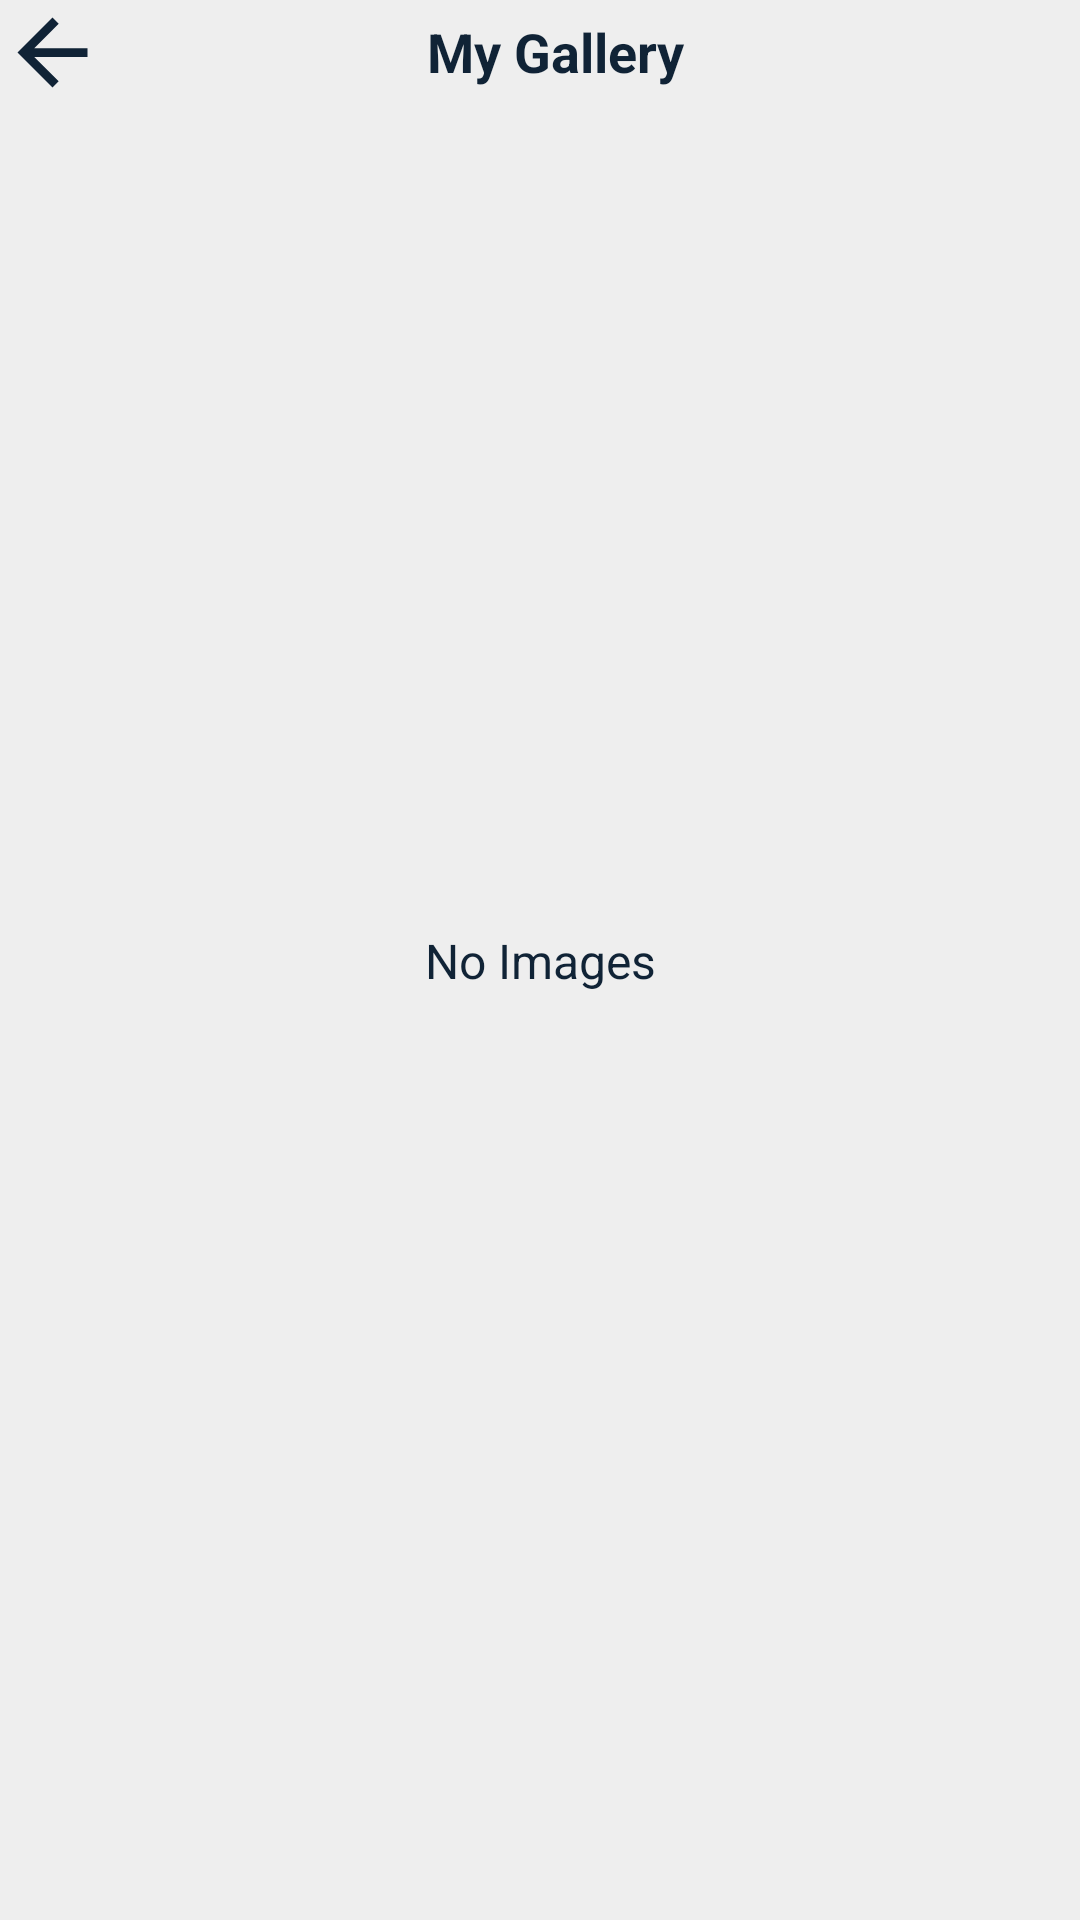

Icon click points for this 1080px x 1920px phone screenshot, format (x,y):
arrow back: (52,52)
